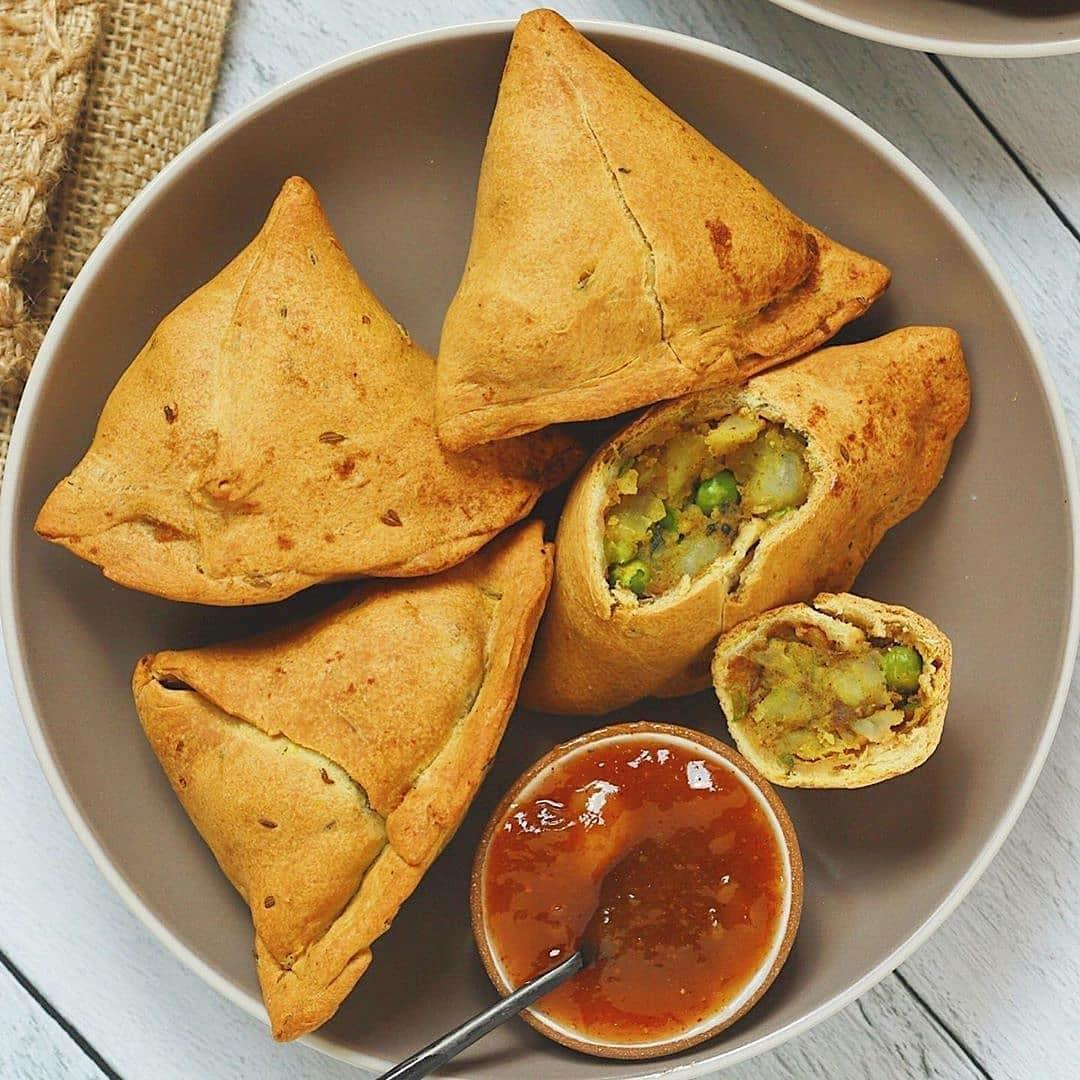Samosa: (33, 128, 589, 602), (130, 511, 541, 1046), (429, 11, 897, 453), (527, 328, 968, 725)
